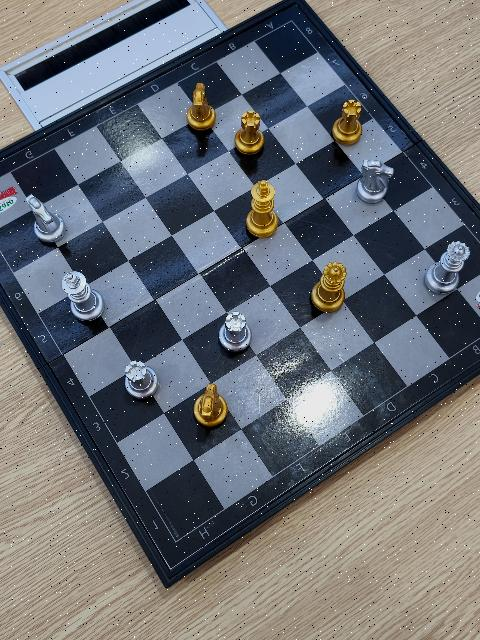black_king: (245, 180, 278, 239)
black_knight: (192, 382, 228, 431), (186, 82, 216, 133)
black_queen: (310, 262, 347, 315)
black_rook: (331, 99, 364, 148), (233, 110, 265, 158)
white_king: (62, 271, 104, 323)
white_knight: (26, 194, 66, 247), (356, 160, 394, 206)
white_queen: (424, 240, 469, 296)
white_rook: (122, 358, 159, 402), (218, 310, 252, 356)
